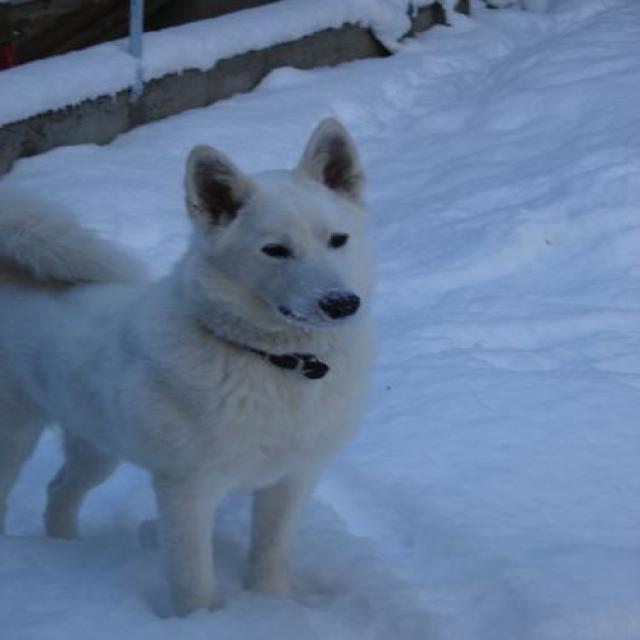Dogs: (0, 114, 375, 617)
